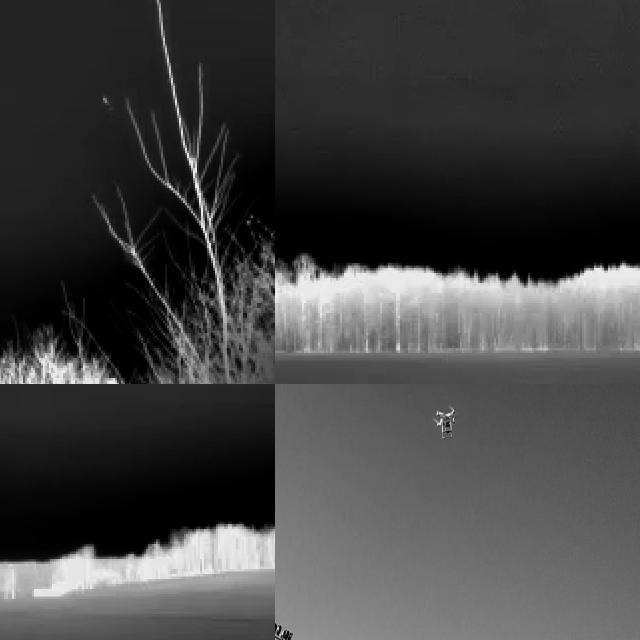0: (93, 89, 113, 117)
drone: (431, 403, 460, 441)
